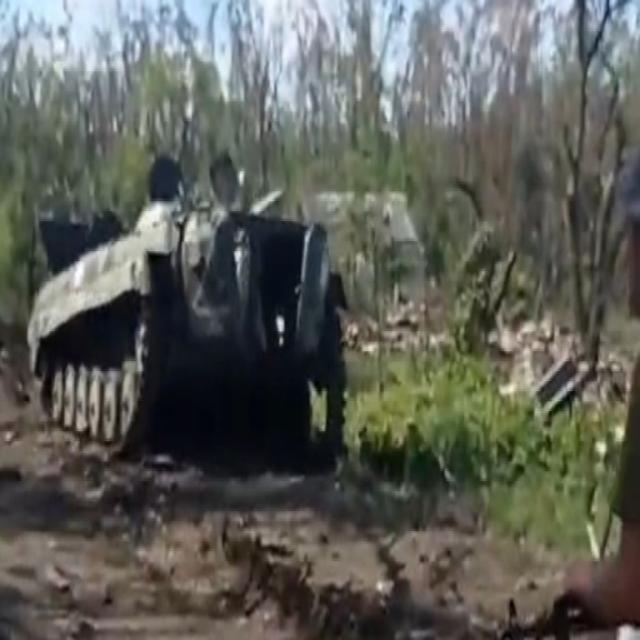APC-IFV: (22, 151, 348, 478)
